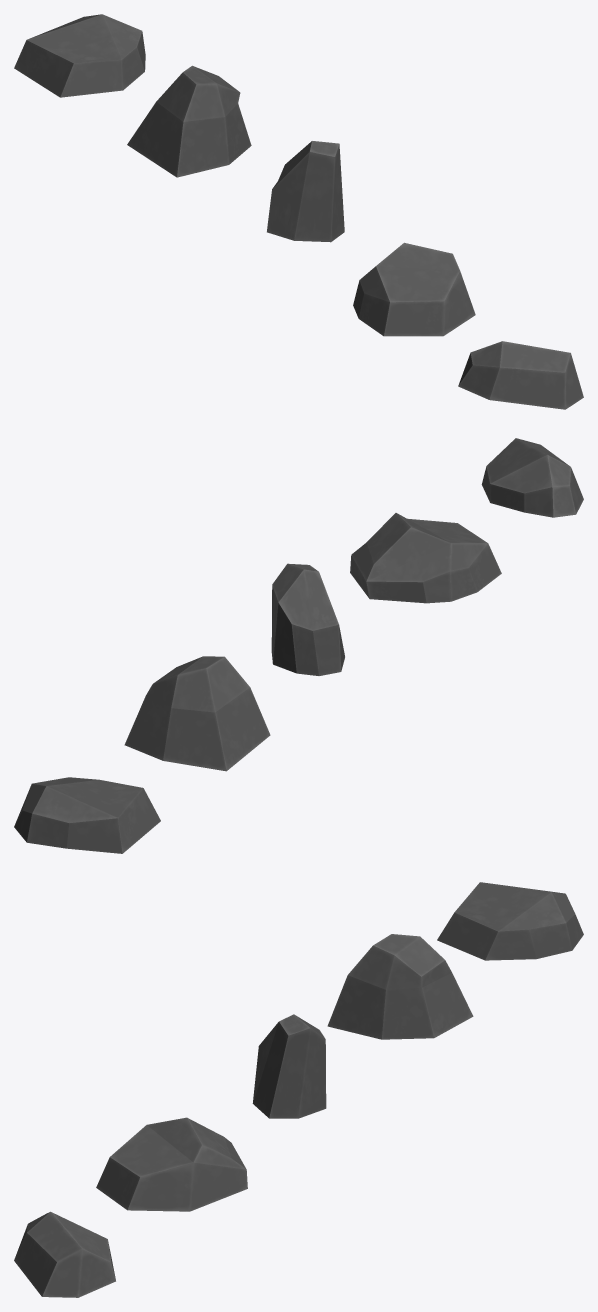
The model's file is low_poly_rock_set.glb.
3 renders of one model, top to bottom at view 1: azimuth 30°, elevation 25°; view 2: azimuth 150°, elevation 25°; view 3: azimuth 330°, elevation 25°, orthographic. The views are drawn at different scales.
Visible parts, largest first — view 1: Object_5, Object_9, Object_3, Object_11, Object_7; view 2: Object_5, Object_9, Object_3, Object_7, Object_11; view 3: Object_5, Object_9, Object_3, Object_7, Object_11.
Boxes of the visible parts, <box> form: Object_5: <box>127,65,251,177</box>; Object_9: <box>353,242,475,336</box>; Object_3: <box>14,14,145,97</box>; Object_11: <box>458,341,583,409</box>; Object_7: <box>267,141,344,242</box>; Object_5: <box>124,656,270,771</box>; Object_9: <box>350,513,501,603</box>; Object_3: <box>14,777,160,853</box>; Object_7: <box>271,563,344,675</box>; Object_11: <box>481,438,583,517</box>; Object_5: <box>327,934,473,1039</box>; Object_9: <box>96,1117,247,1211</box>; Object_3: <box>437,882,583,960</box>; Object_7: <box>252,1014,326,1118</box>; Object_11: <box>14,1211,115,1297</box>.
Bounding box in the file's own units: 181 × 137 × 1377.
Materials: 5 (5 with a texture image).
